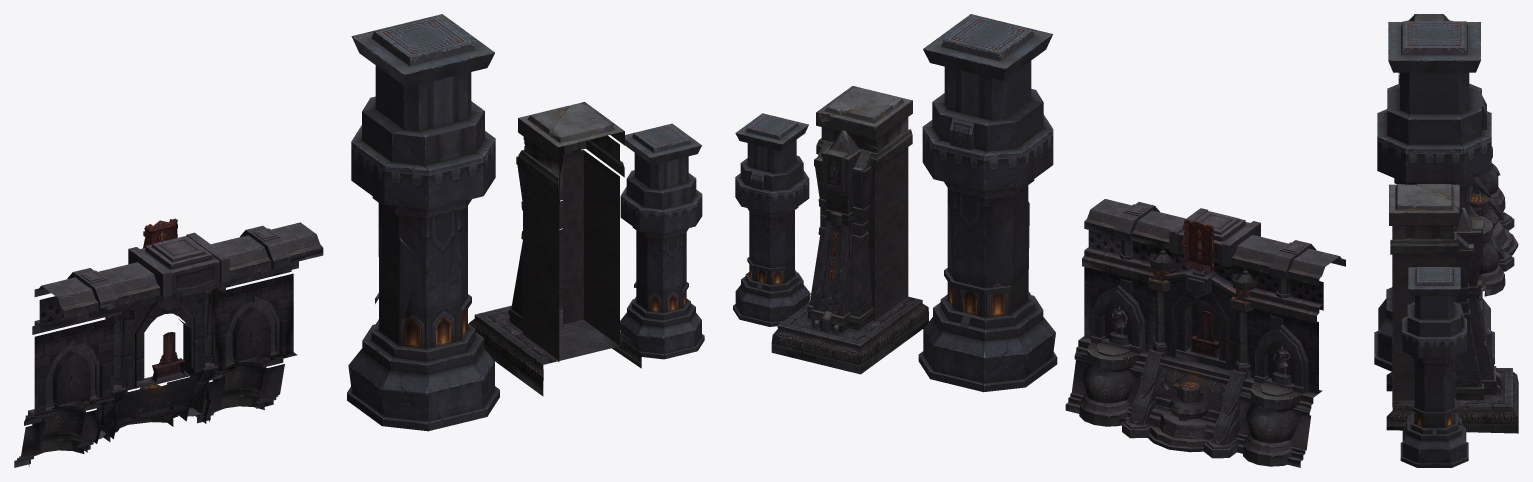
The model's file is 2_BTT_ZhongDengZhuZi_02.FBX.
The picture shows the model from 3 angles, left to right: view 1: azimuth 30°, elevation 25°; view 2: azimuth 150°, elevation 25°; view 3: azimuth 270°, elevation 25°; orthographic projection. The views are drawn at different scales.
Parts seen in each view (by area): view 1: 2_BTT_SanFoPinJieQiang_01, 2_BTT_TiXingQiangDuo_01, 2_BTT_ZhongDengZhuZi_01_03, 2_BTT_ZhongDengZhuZi_01, 2_BTT_XiaoZhuZi_01, 2_BTT_SanFoPinJieQiang_01_02; view 2: 2_BTT_SanFoPinJieQiang_01, 2_BTT_TiXingQiangDuo_01, 2_BTT_ZhongDengZhuZi_01_03, 2_BTT_ZhongDengZhuZi_01, 2_BTT_XiaoZhuZi_01, 2_BTT_SanFoPinJieQiang_01_02; view 3: 2_BTT_TiXingQiangDuo_01, 2_BTT_ZhongDengZhuZi_01_03, 2_BTT_XiaoZhuZi_01, 2_BTT_SanFoPinJieQiang_01, 2_BTT_ZhongDengZhuZi_01.
Part boxes in pixels (left/top/right/bottom): 2_BTT_SanFoPinJieQiang_01: left=14, top=222, right=323, bottom=467; 2_BTT_TiXingQiangDuo_01: left=469, top=102, right=641, bottom=396; 2_BTT_ZhongDengZhuZi_01_03: left=351, top=14, right=495, bottom=258; 2_BTT_ZhongDengZhuZi_01: left=347, top=203, right=499, bottom=431; 2_BTT_XiaoZhuZi_01: left=620, top=123, right=704, bottom=359; 2_BTT_SanFoPinJieQiang_01_02: left=143, top=218, right=177, bottom=248; 2_BTT_SanFoPinJieQiang_01: left=1065, top=199, right=1345, bottom=467; 2_BTT_TiXingQiangDuo_01: left=771, top=86, right=928, bottom=374; 2_BTT_ZhongDengZhuZi_01_03: left=922, top=14, right=1053, bottom=214; 2_BTT_ZhongDengZhuZi_01: left=918, top=192, right=1057, bottom=392; 2_BTT_XiaoZhuZi_01: left=733, top=113, right=810, bottom=326; 2_BTT_SanFoPinJieQiang_01_02: left=1182, top=219, right=1214, bottom=272; 2_BTT_TiXingQiangDuo_01: left=1386, top=184, right=1518, bottom=433; 2_BTT_ZhongDengZhuZi_01_03: left=1377, top=21, right=1491, bottom=210; 2_BTT_XiaoZhuZi_01: left=1400, top=267, right=1468, bottom=467; 2_BTT_SanFoPinJieQiang_01: left=1398, top=14, right=1518, bottom=296; 2_BTT_ZhongDengZhuZi_01: left=1374, top=202, right=1494, bottom=371.
Bounding box in the file's own units: 2672 × 1427 × 588.
Materials: 4 (4 with a texture image).
